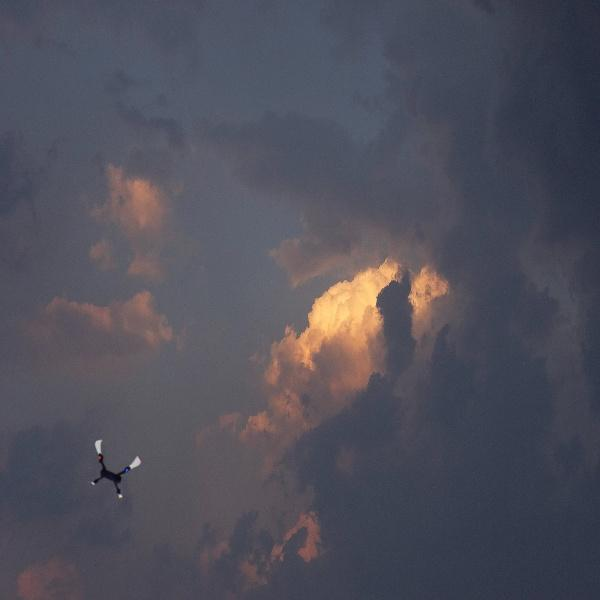drone: (85, 442, 143, 500)
